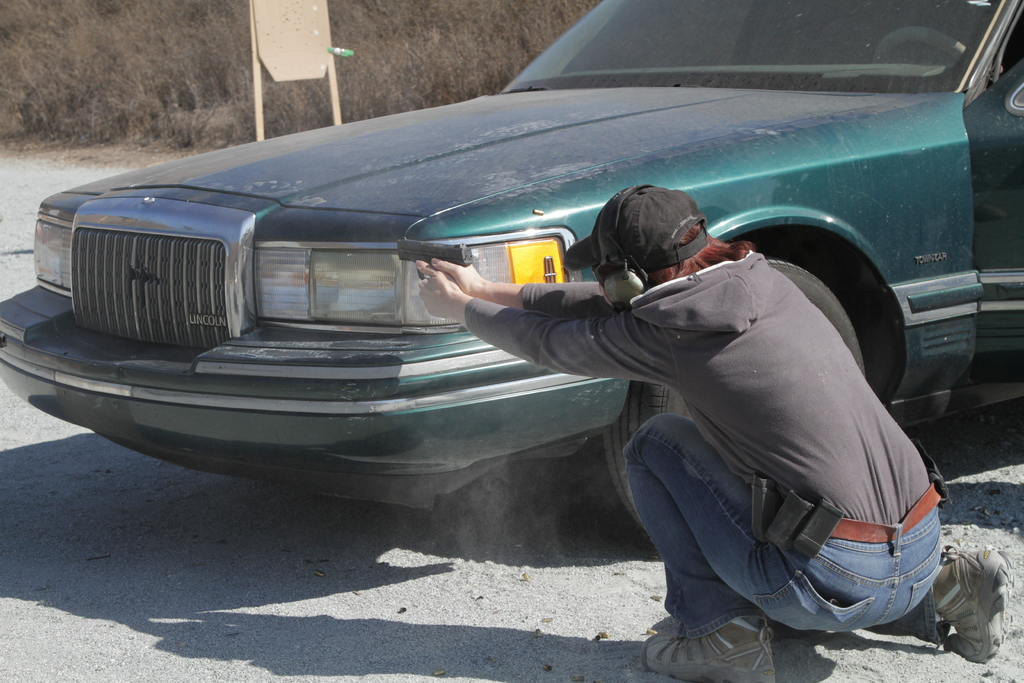Car: (0, 0, 1023, 541)
